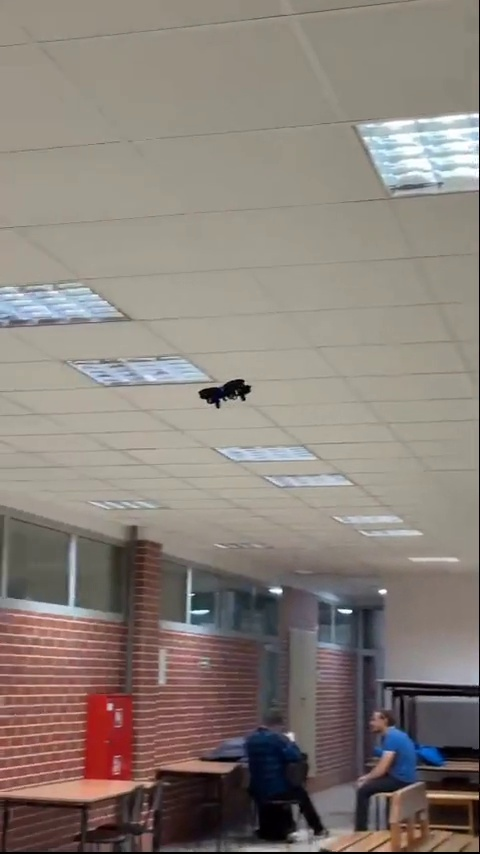drone: (196, 378, 255, 410)
no vest: (353, 707, 421, 805), (239, 699, 303, 803)
